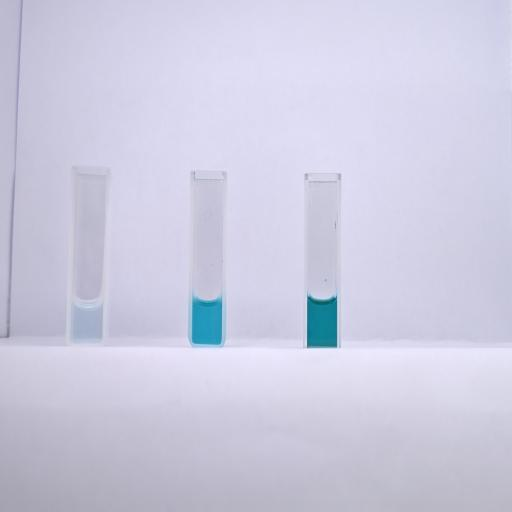cuvette: (64, 164, 112, 348), (186, 168, 230, 348), (302, 170, 344, 350)
liquid: (192, 296, 222, 345), (308, 296, 337, 346), (72, 298, 102, 342)
